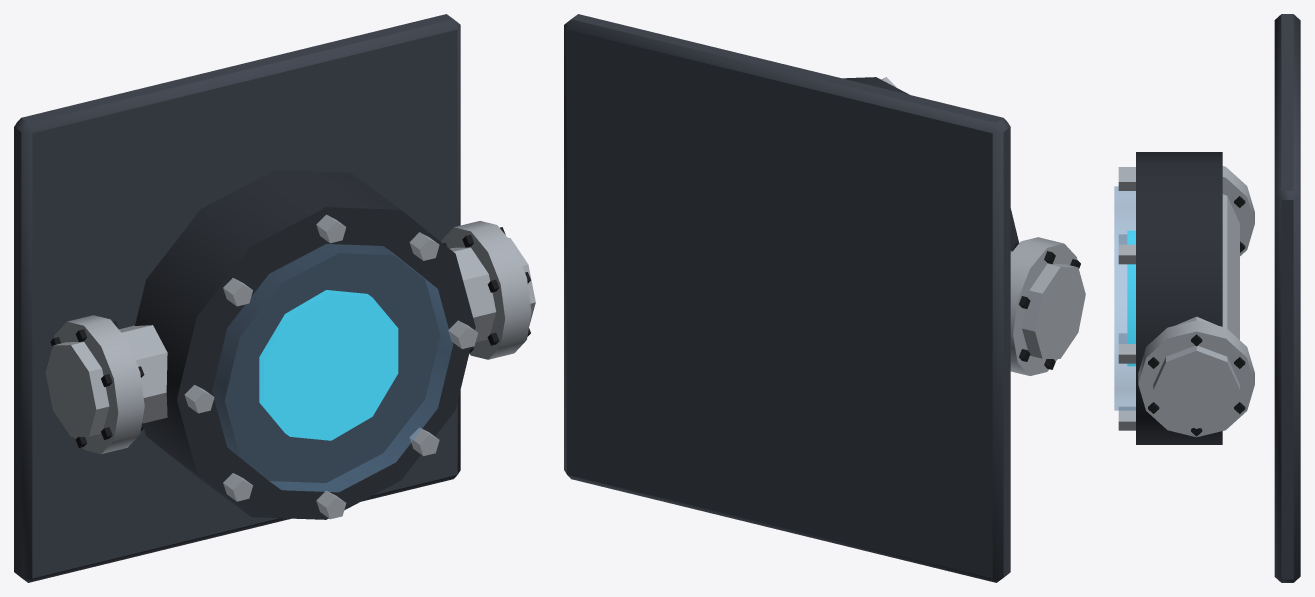
The model's file is valve_sight_glass.glb.
The picture shows the model from 3 angles, left to right: view 1: azimuth 30°, elevation 25°; view 2: azimuth 150°, elevation 25°; view 3: azimuth 270°, elevation 25°; orthographic projection. The views are drawn at different scales.
Visible parts, largest first — view 1: valve_sight_glass; view 2: valve_sight_glass; view 3: valve_sight_glass.
Part boxes in pixels (x1=…): valve_sight_glass: x1=14, y1=14, x2=535, y2=582; valve_sight_glass: x1=564, y1=14, x2=1085, y2=582; valve_sight_glass: x1=1114, y1=14, x2=1300, y2=582.
Bounding box in the file's own units: 0.5 × 0.5 × 0.215.
